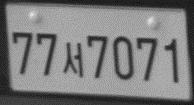0: (112, 36, 135, 80)
1: (164, 37, 179, 84)
7: (9, 30, 34, 75), (85, 34, 109, 80), (35, 31, 57, 77), (136, 36, 157, 82)
서: (61, 40, 83, 78)
